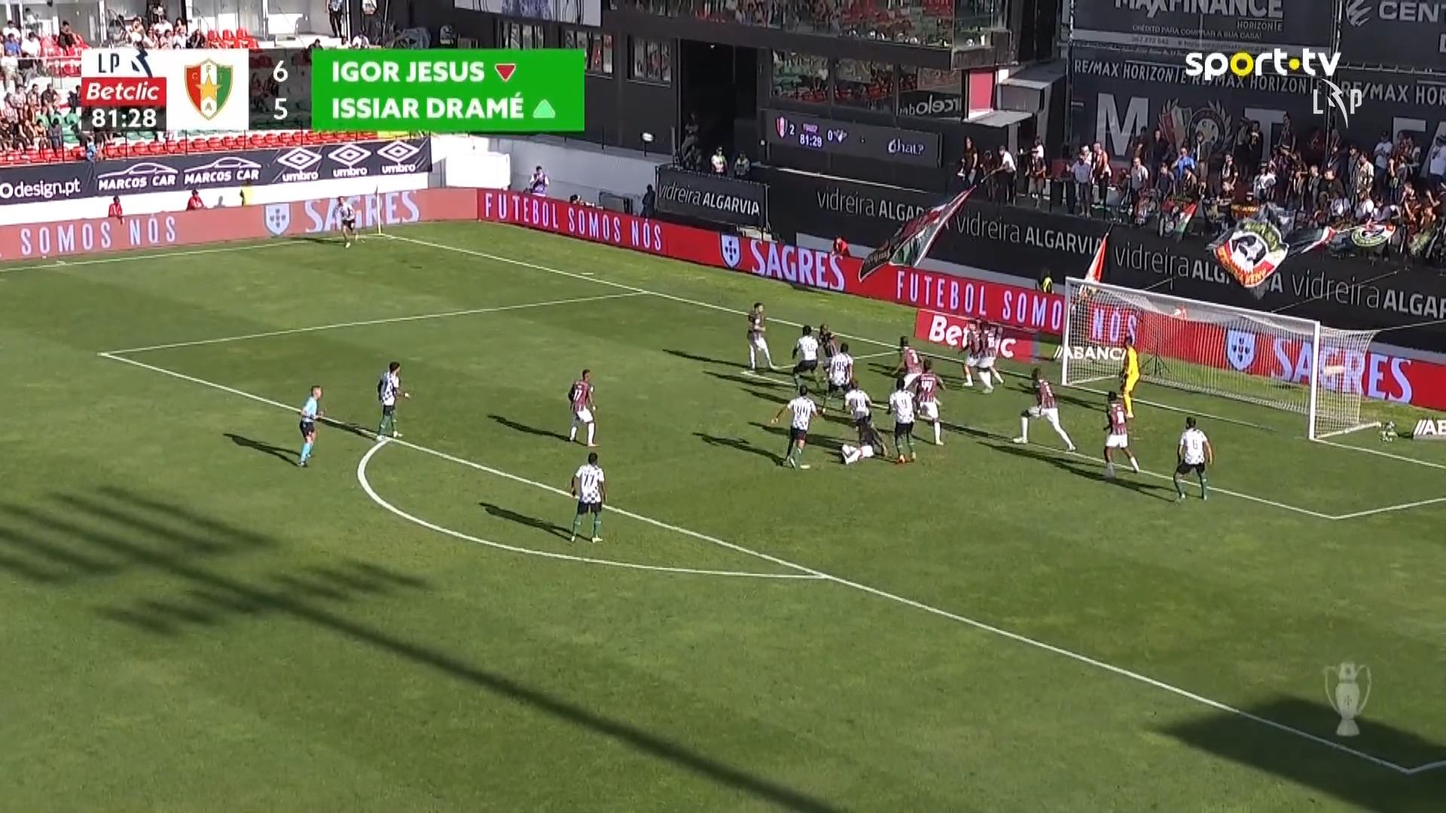ball: (643, 132, 653, 142)
goalkeeper: (1117, 334, 1139, 419)
player: (1011, 366, 1076, 452), (770, 383, 825, 468), (842, 378, 888, 458), (1172, 415, 1213, 503), (908, 356, 947, 446), (568, 451, 606, 543), (1101, 389, 1139, 478), (374, 360, 410, 442), (975, 319, 1014, 394), (886, 376, 918, 463), (743, 301, 779, 373), (566, 368, 599, 446), (820, 340, 855, 413), (790, 324, 820, 391), (956, 318, 984, 388), (889, 334, 921, 388), (331, 196, 359, 248)
referee: (296, 385, 325, 467)
